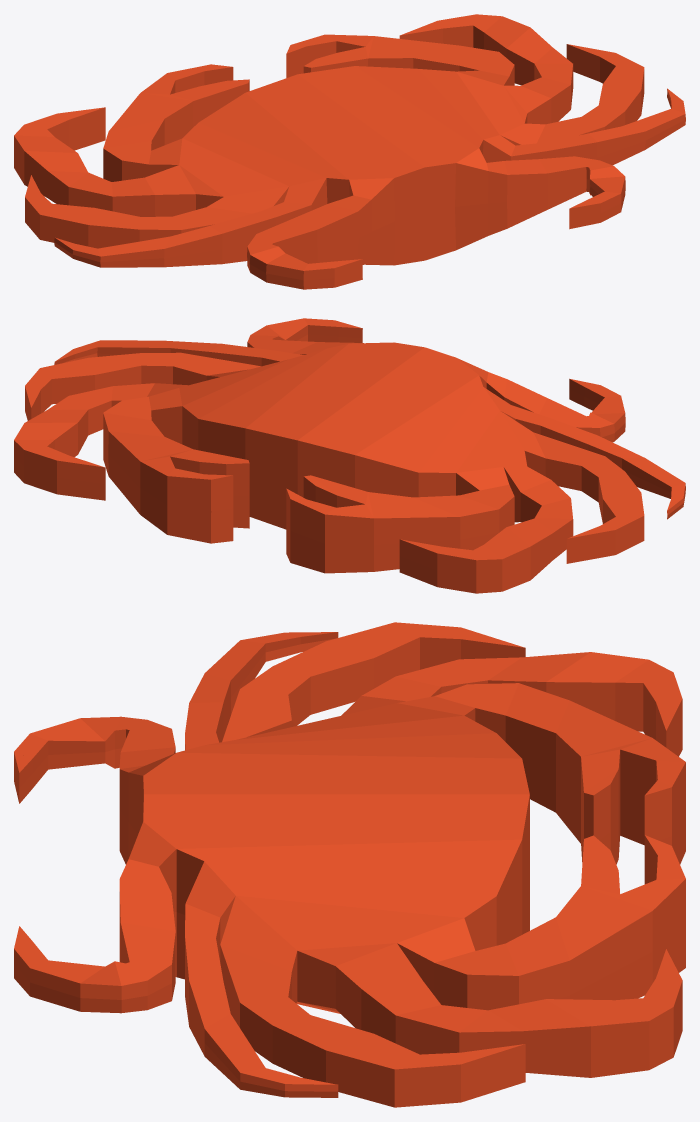
Rendered from Crab.fbx.
The picture shows the model from 3 angles, top to bottom: view 1: azimuth 30°, elevation 25°; view 2: azimuth 150°, elevation 25°; view 3: azimuth 270°, elevation 25°; orthographic projection. The views are drawn at different scales.
Parts seen in each view (by area): view 1: Crab; view 2: Crab; view 3: Crab.
Part boxes in pixels (x1,y1,x2,y2): Crab: (14,14,685,289); Crab: (14,318,685,593); Crab: (14,622,685,1107).
Bounding box in the file's own units: 106 × 15.42 × 66.43.
